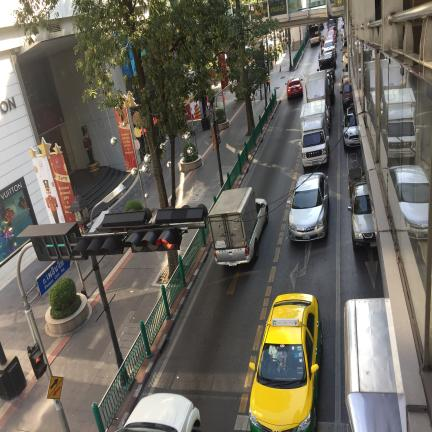car: (288, 172, 329, 241)
taxi: (249, 293, 322, 432), (250, 363, 255, 370)
truck: (208, 187, 268, 265), (300, 99, 329, 169), (304, 70, 331, 121)
